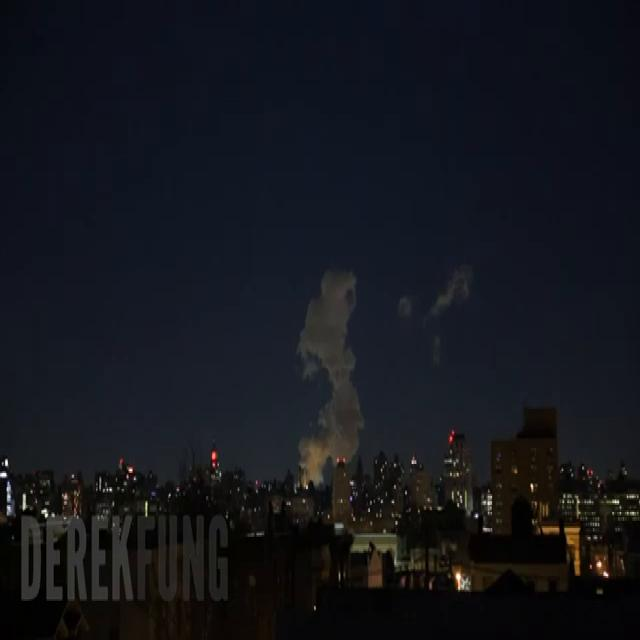smoke: (297, 270, 363, 478)
